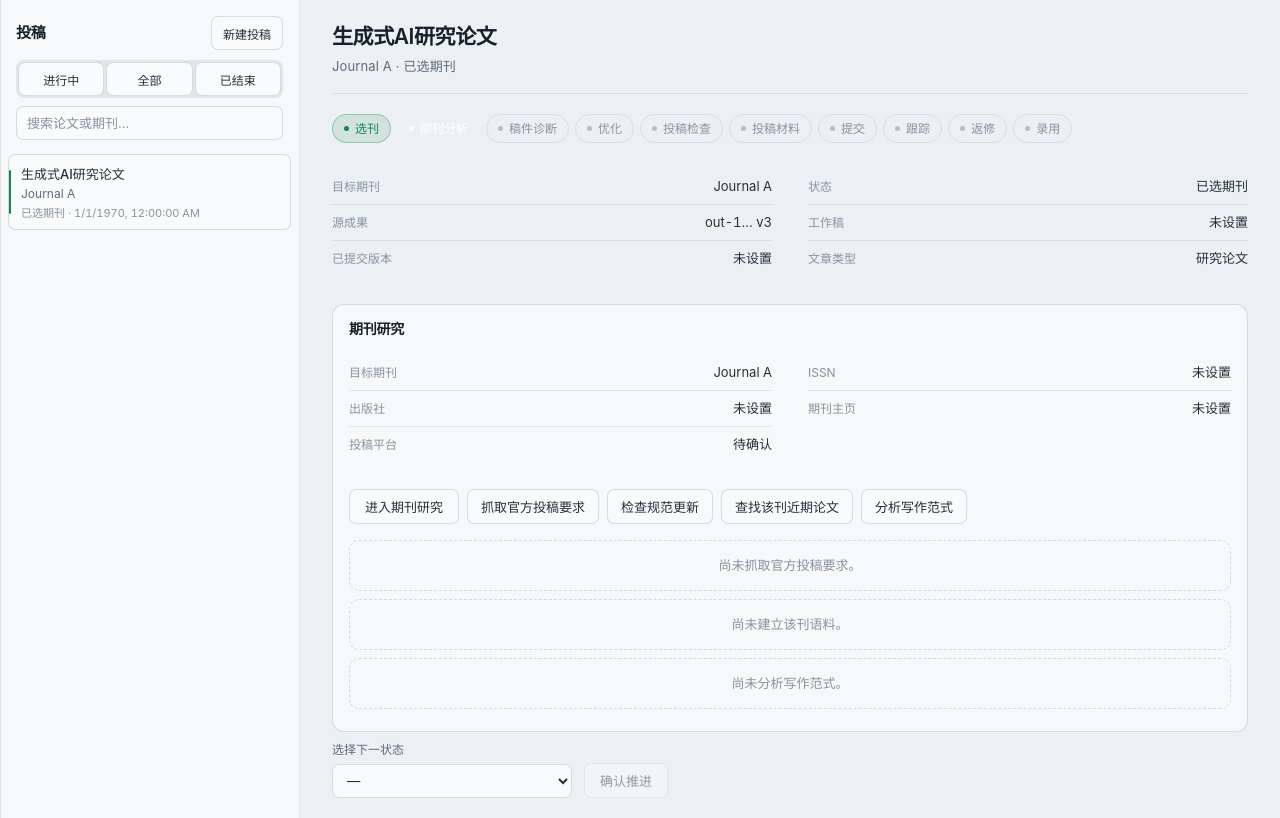
it: SubmissionsPage 期刊研究（P1） › 抓取失败显示人性化错误文案且不崩溃
Step 1. Click the button "抓取官方投稿要求" → (533, 507), box [467,489,599,524]
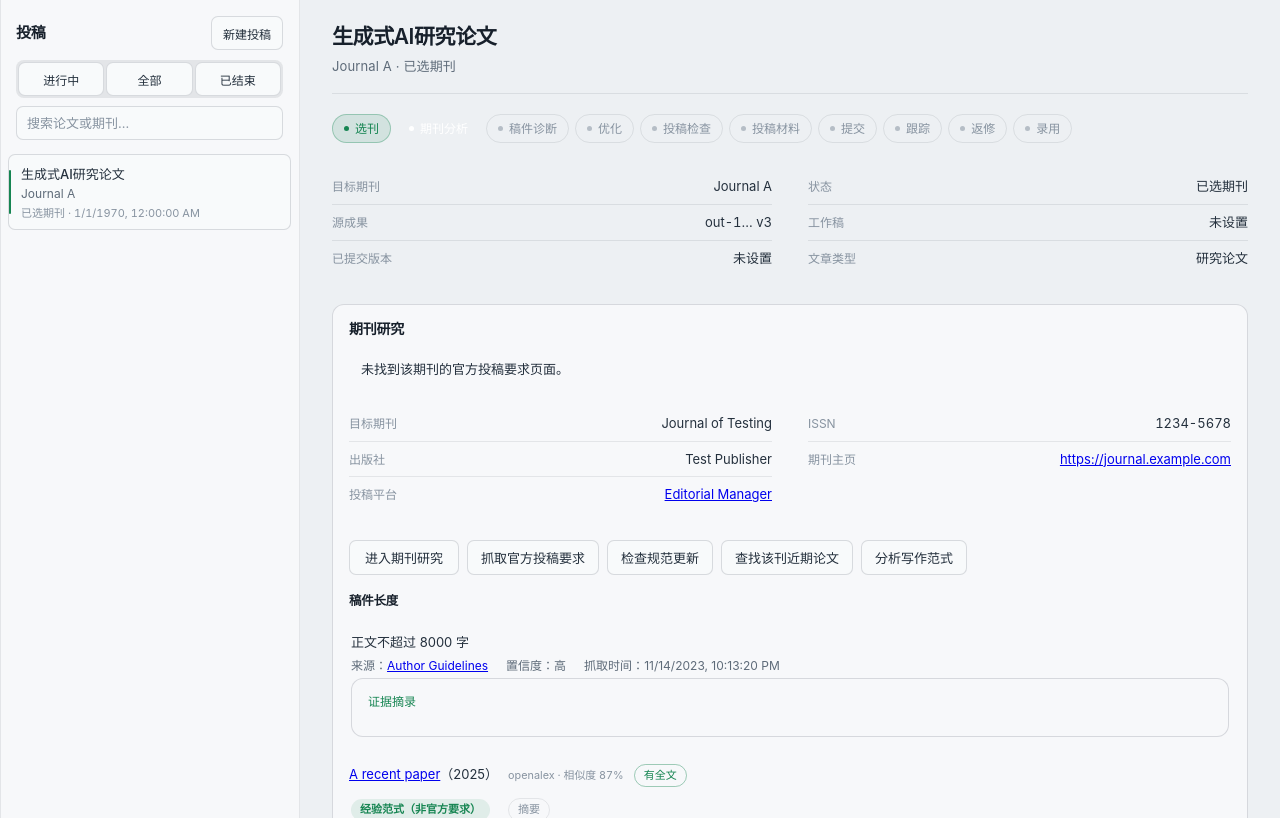
Check: the text "未找到该期刊的官方投稿要求页面。" is shown, box [361,361,569,377]
